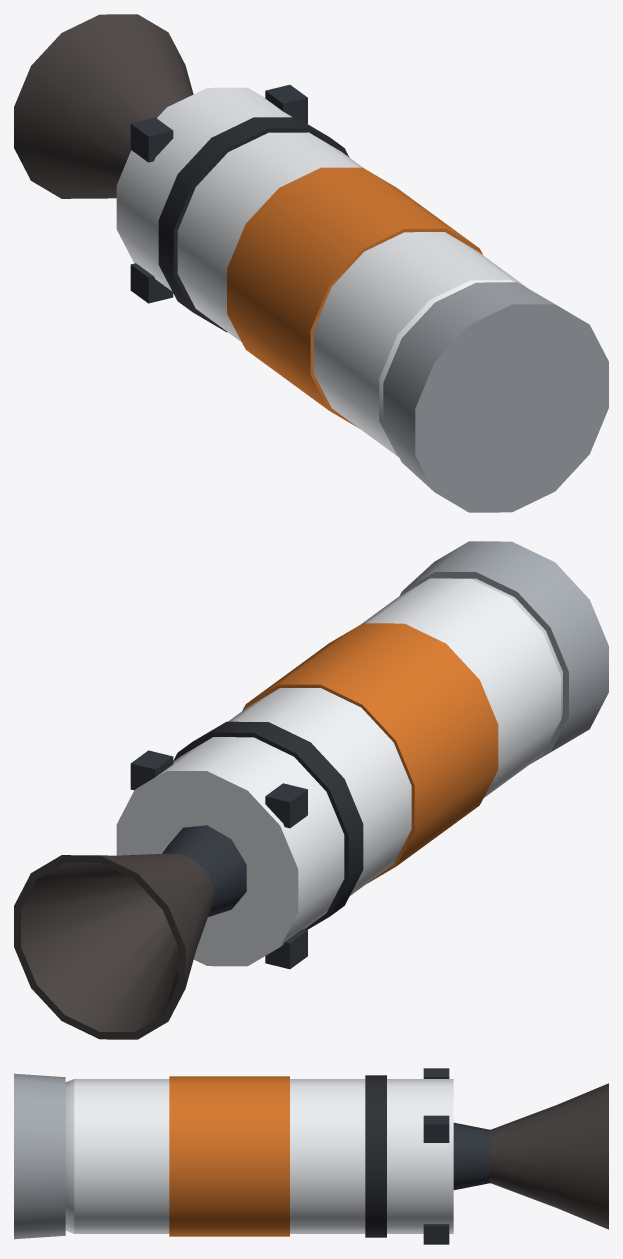
Rendered from rocket_stage.glb.
3 renders of one model, top to bottom at view 1: azimuth 30°, elevation 25°; view 2: azimuth 150°, elevation 25°; view 3: azimuth 270°, elevation 25°, orthographic. The views are drawn at different scales.
Visible parts, largest first — view 1: body; view 2: body; view 3: body.
Part boxes in pixels (x1,y1,x2,y2): body: (14,14,608,512); body: (14,541,608,1039); body: (14,1068,608,1244).
Bounding box in the file's own units: 18.72 × 19.2 × 69.
